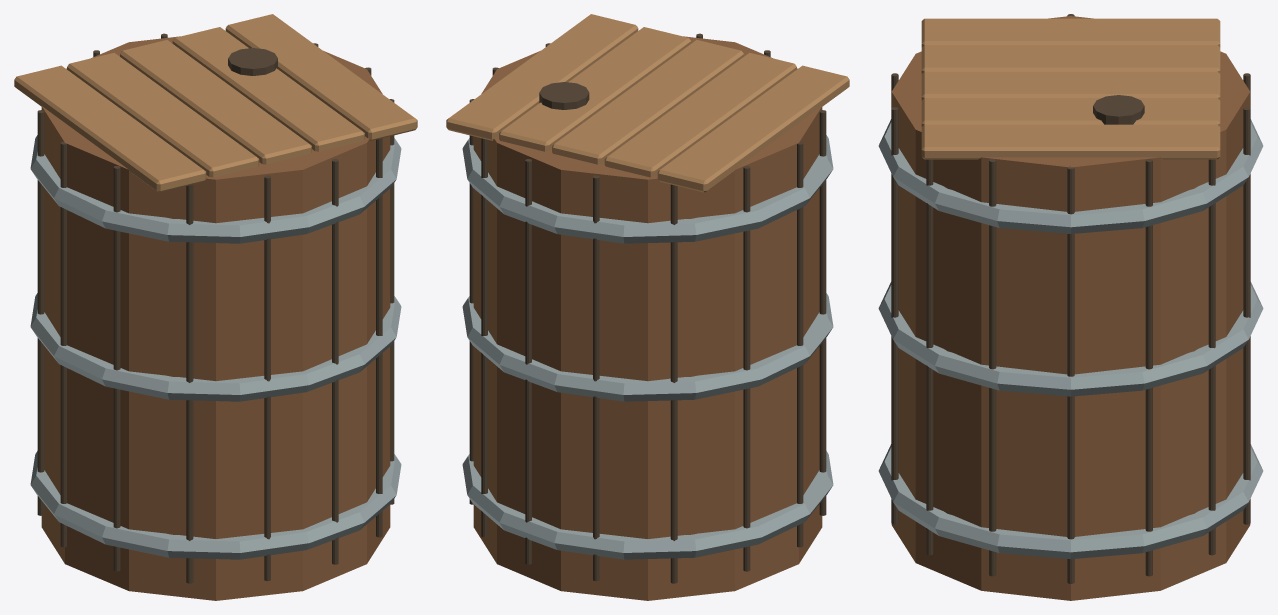
The model's file is Cargo_Barrel_A.glb.
The picture shows the model from 3 angles, left to right: view 1: azimuth 30°, elevation 25°; view 2: azimuth 150°, elevation 25°; view 3: azimuth 270°, elevation 25°; orthographic projection. The views are drawn at different scales.
Visible parts, largest first — view 1: Cargo_Barrel_A; view 2: Cargo_Barrel_A; view 3: Cargo_Barrel_A.
Boxes of the visible parts, x1,y1,x2,y2 form: Cargo_Barrel_A: [14, 14, 417, 600]; Cargo_Barrel_A: [446, 14, 849, 600]; Cargo_Barrel_A: [878, 14, 1263, 600].
Size of the model in its own units: 0.644 by 0.83 by 0.644.
